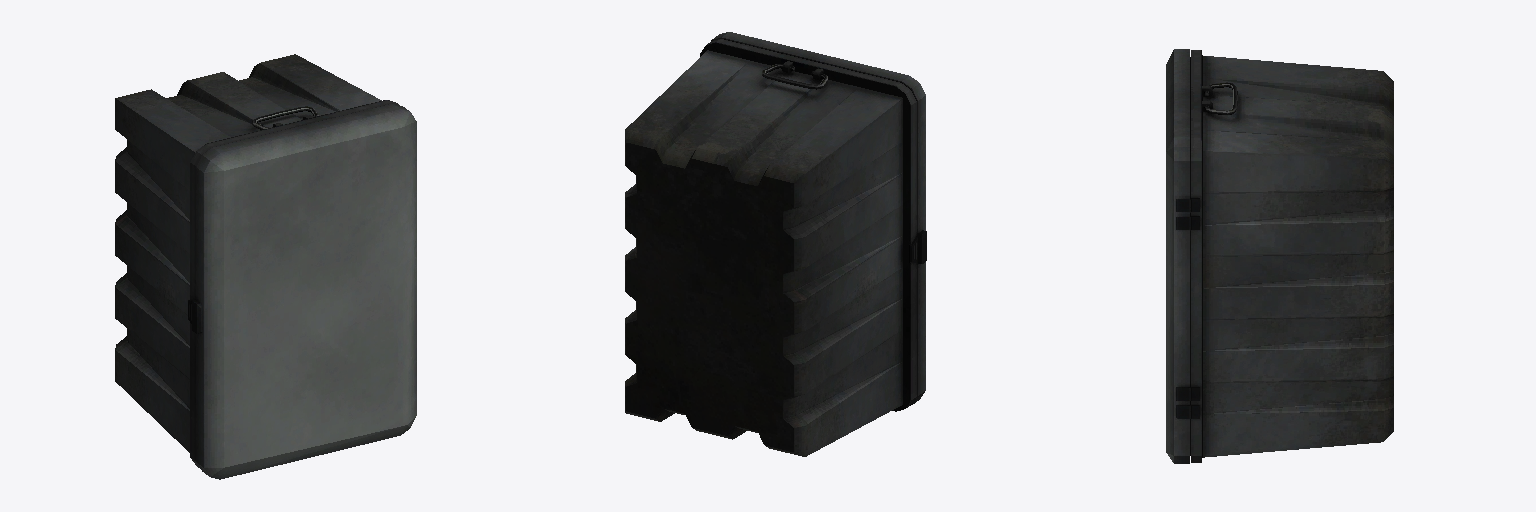
3 renders of one model, left to right at view 1: azimuth 30°, elevation 25°; view 2: azimuth 150°, elevation 25°; view 3: azimuth 270°, elevation 25°, orthographic.
Parts seen in each view (by area): view 1: studio.cratebev_ref.mesh_0; view 2: studio.cratebev_ref.mesh_0; view 3: studio.cratebev_ref.mesh_0.
Part boxes in pixels (left/top/right/bottom): studio.cratebev_ref.mesh_0: left=115, top=54, right=416, bottom=479; studio.cratebev_ref.mesh_0: left=625, top=32, right=926, bottom=456; studio.cratebev_ref.mesh_0: left=1166, top=49, right=1393, bottom=463.
Size of the model in its own units: 28.32 by 40.44 by 25.56.
Materials: 1 (1 with a texture image).